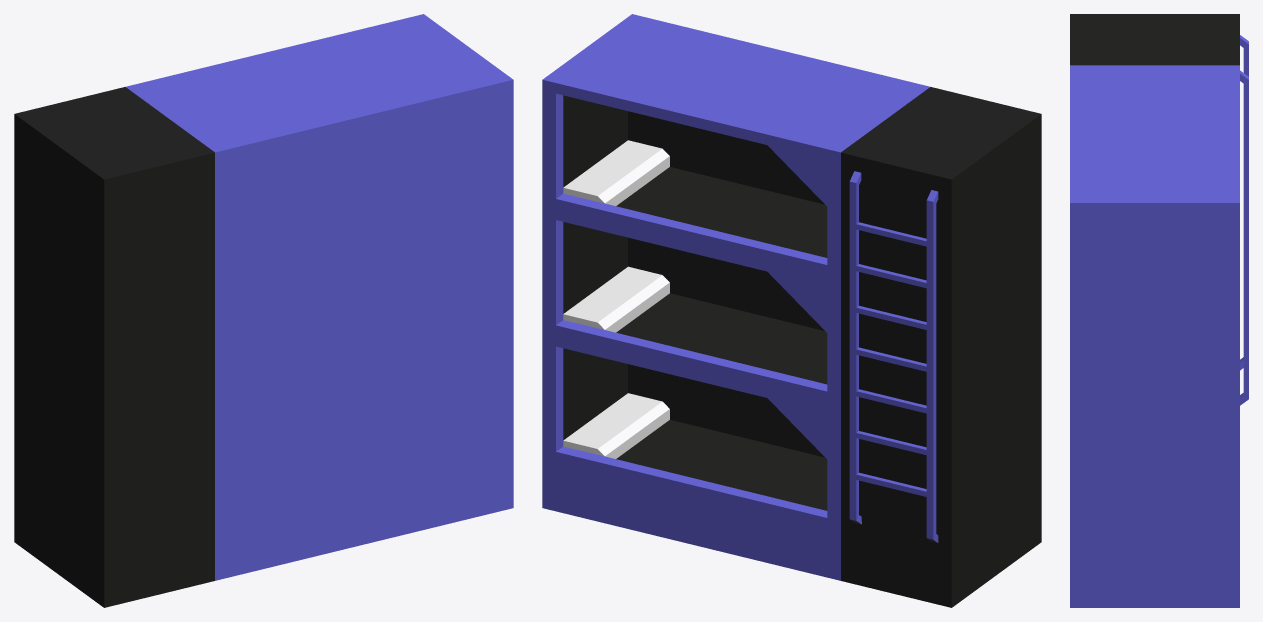
Rendered from Bed_3.fbx.
3 renders of one model, left to right at view 1: azimuth 30°, elevation 25°; view 2: azimuth 150°, elevation 25°; view 3: azimuth 270°, elevation 25°, orthographic. The views are drawn at different scales.
Visible parts, largest first — view 1: beds.011; view 2: beds.011; view 3: beds.011.
Part boxes in pixels (x1,y1,x2,y2): beds.011: (14, 14, 513, 607); beds.011: (542, 14, 1041, 607); beds.011: (1070, 14, 1248, 607).
Bounding box in the file's own units: 5 × 2 × 5.
